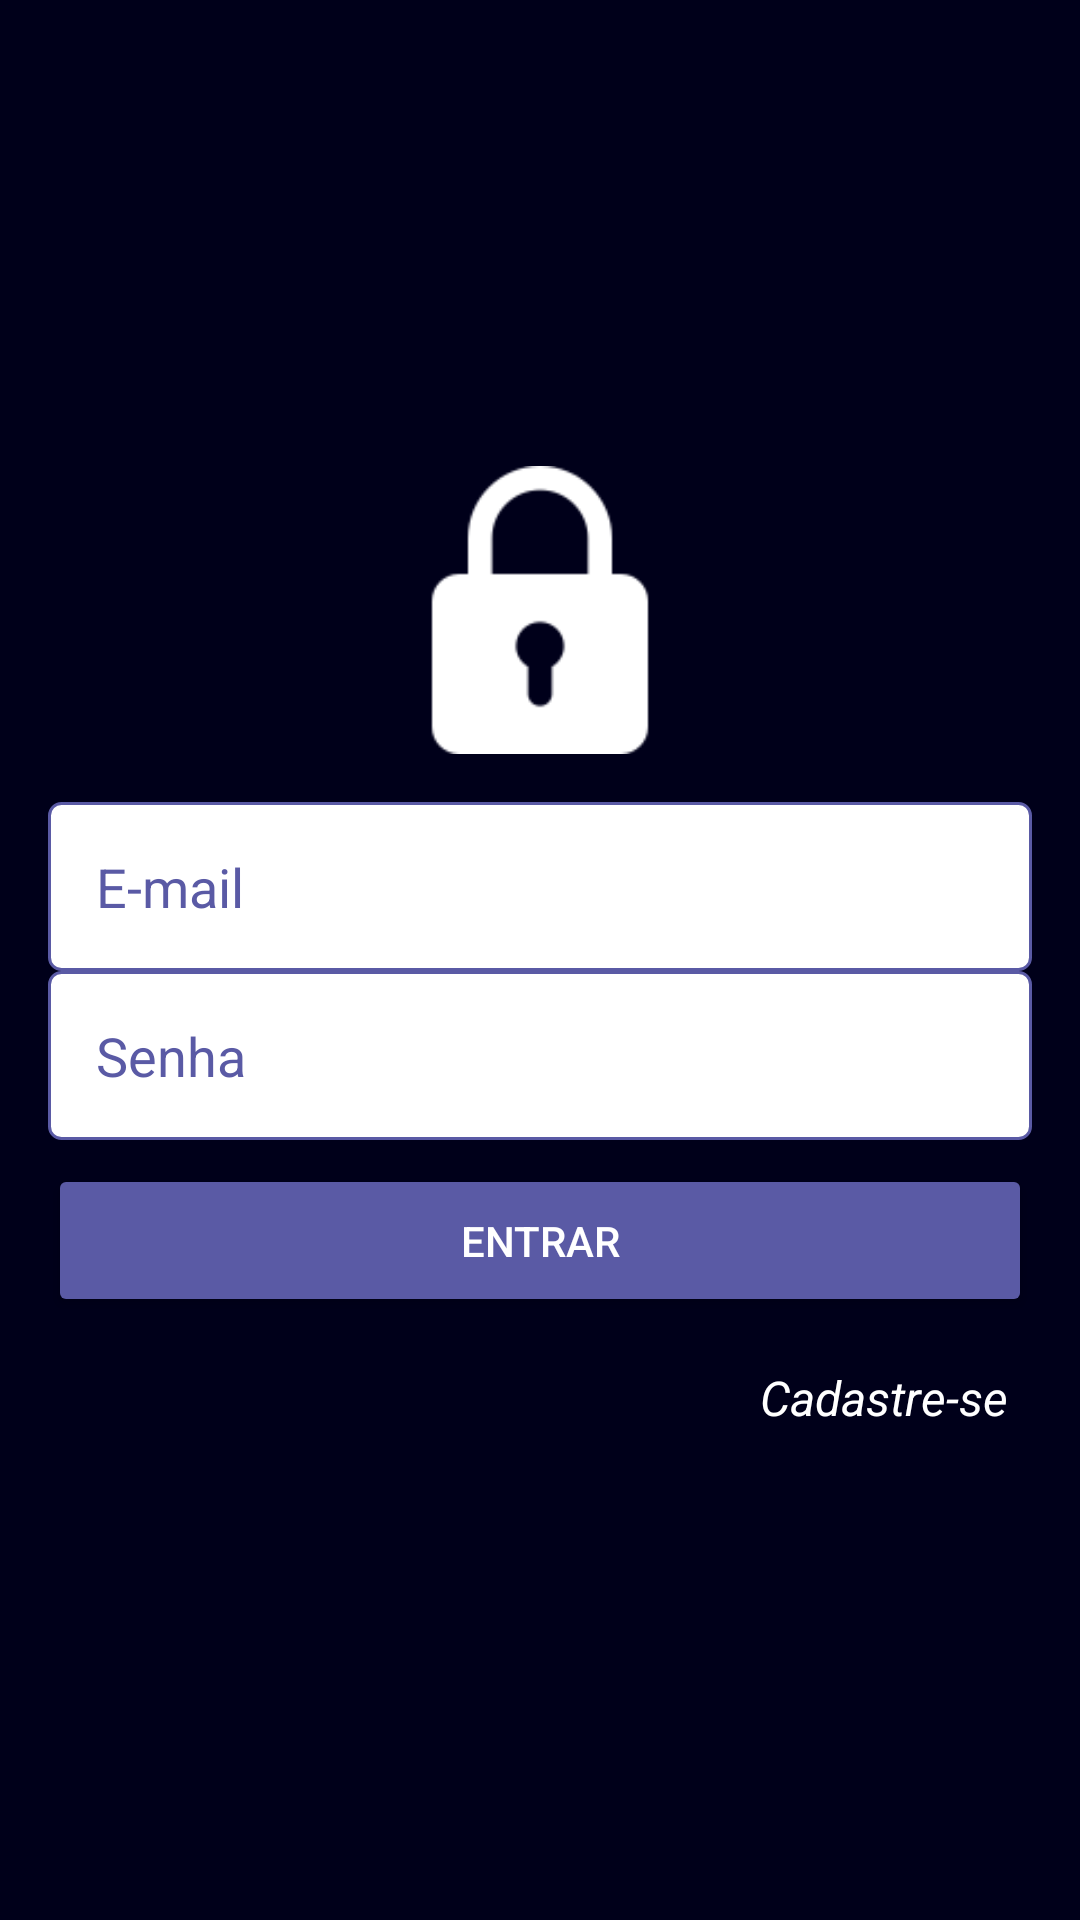

Point at icon controls on the screen. Image size 1080px×1920px, points as point (x, y).
padlock: point (540, 610)
